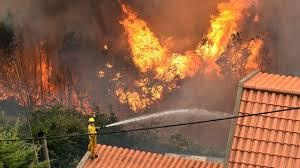fire: (3, 40, 64, 106)
